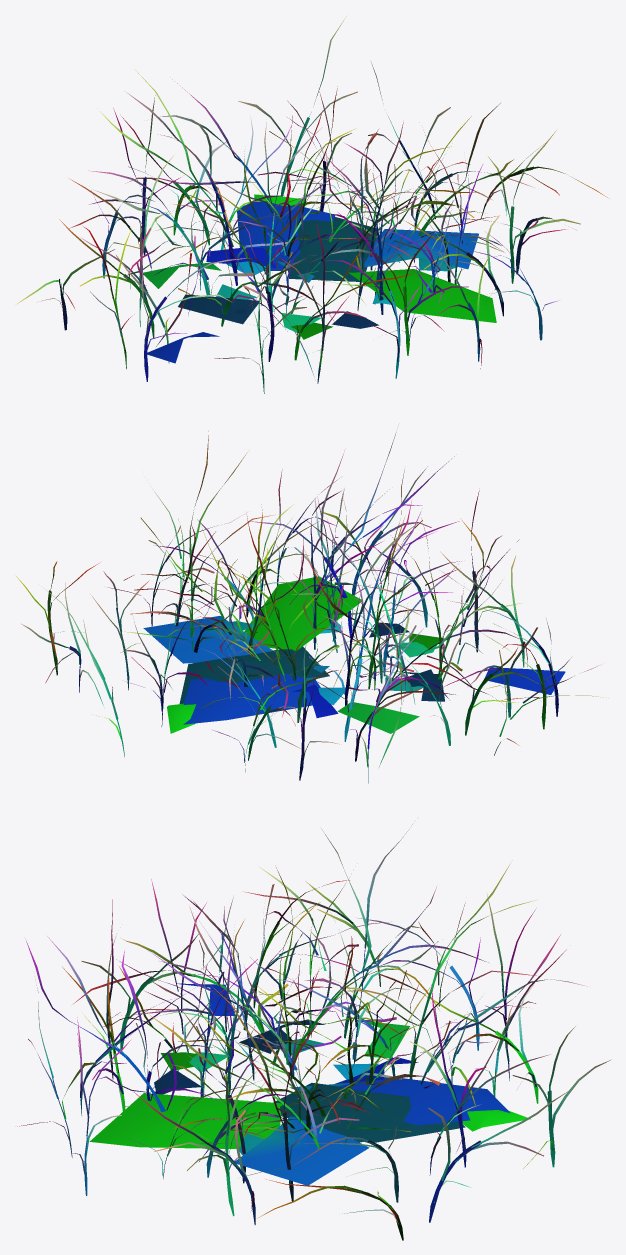
The model's file is Kikuyu_Grass_wiljearqx_High_wiljearqx_VarE_LOD1.fbx.
3 views of the same model, one above another, from view 1: azimuth 30°, elevation 25°; view 2: azimuth 150°, elevation 25°; view 3: azimuth 270°, elevation 25° (orthographic). The views are drawn at different scales.
Visible parts, largest first — view 1: _rir9_VarE_LOD2; view 2: _rir9_VarE_LOD2; view 3: _rir9_VarE_LOD2.
Part boxes in pixels (x1,y1,x2,y2): _rir9_VarE_LOD2: [16, 16, 608, 393]; _rir9_VarE_LOD2: [16, 431, 608, 783]; _rir9_VarE_LOD2: [17, 824, 611, 1240].
Size of the model in its own units: 89.98 by 32.63 by 71.53.
